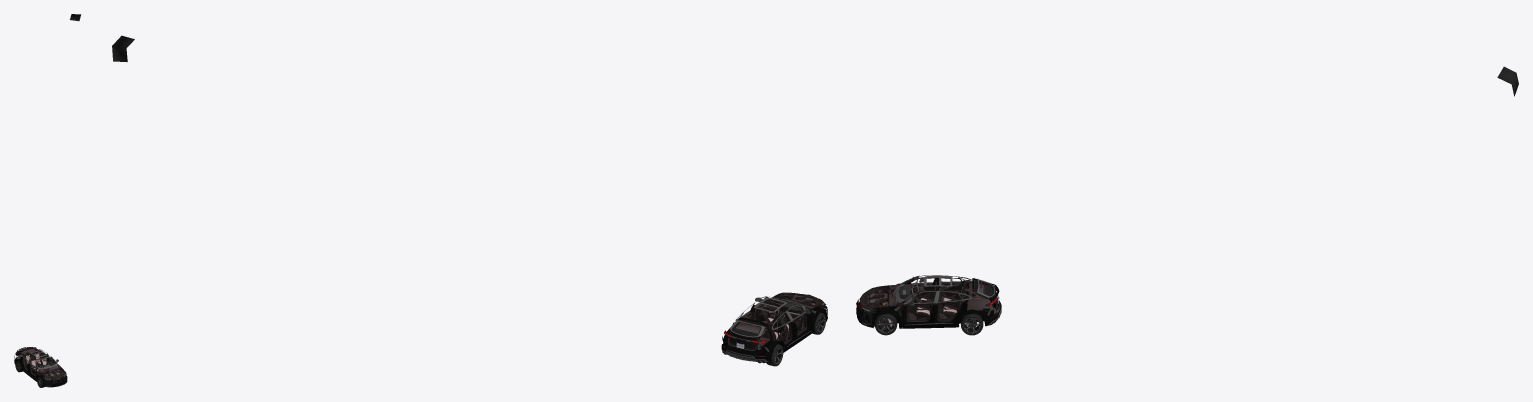
File: urus_parts.glb
3 views of the same model, side by side, from view 1: azimuth 30°, elevation 25°; view 2: azimuth 150°, elevation 25°; view 3: azimuth 270°, elevation 25° (orthographic). The views are drawn at different scales.
Visible parts, largest first — view 1: Coloured_Geo_lodA_Lamborghini_UrusRewardRecycled_2018Coloure, Kit1_Interior_Geo_lodA_Lamborghini_UrusRewardRecycled_2018In, body:Paint_Geo_lodABody_lodA, Engine_Geo_lodA_Lamborghini_UrusRewardRecycled_2018EngineA_M, Kit1_InteriorTillingColourZone_Geo_lodA_Lamborghini_UrusRewa; view 2: Kit1_Interior_Geo_lodA_Lamborghini_UrusRewardRecycled_2018In, Coloured_Geo_lodA_Lamborghini_UrusRewardRecycled_2018Coloure, body:Paint_Geo_lodABody_lodA; view 3: Kit1_Interior_Geo_lodA_Lamborghini_UrusRewardRecycled_2018In, Coloured_Geo_lodA_Lamborghini_UrusRewardRecycled_2018Coloure, body:Paint_Geo_lodABody_lodA, Engine_Geo_lodA_Lamborghini_UrusRewardRecycled_2018EngineA_M.
Part boxes in pixels (x1,y1,x2,y2): Coloured_Geo_lodA_Lamborghini_UrusRewardRecycled_2018Coloure: (14,347,66,386); Kit1_Interior_Geo_lodA_Lamborghini_UrusRewardRecycled_2018In: (17,347,56,379); body:Paint_Geo_lodABody_lodA: (14,347,67,387); Engine_Geo_lodA_Lamborghini_UrusRewardRecycled_2018EngineA_M: (40,367,65,379); Kit1_InteriorTillingColourZone_Geo_lodA_Lamborghini_UrusRewa: (26,352,46,371); Kit1_Interior_Geo_lodA_Lamborghini_UrusRewardRecycled_2018In: (728,296,811,350); Coloured_Geo_lodA_Lamborghini_UrusRewardRecycled_2018Coloure: (721,296,827,363); body:Paint_Geo_lodABody_lodA: (721,305,827,361); Kit1_Interior_Geo_lodA_Lamborghini_UrusRewardRecycled_2018In: (897,276,997,325); Coloured_Geo_lodA_Lamborghini_UrusRewardRecycled_2018Coloure: (862,275,1001,328); body:Paint_Geo_lodABody_lodA: (856,278,1001,328); Engine_Geo_lodA_Lamborghini_UrusRewardRecycled_2018EngineA_M: (859,285,893,310).
Size of the model in its own units: 0.161 by 0.1655 by 0.2315.
27 materials, 19 textured.
